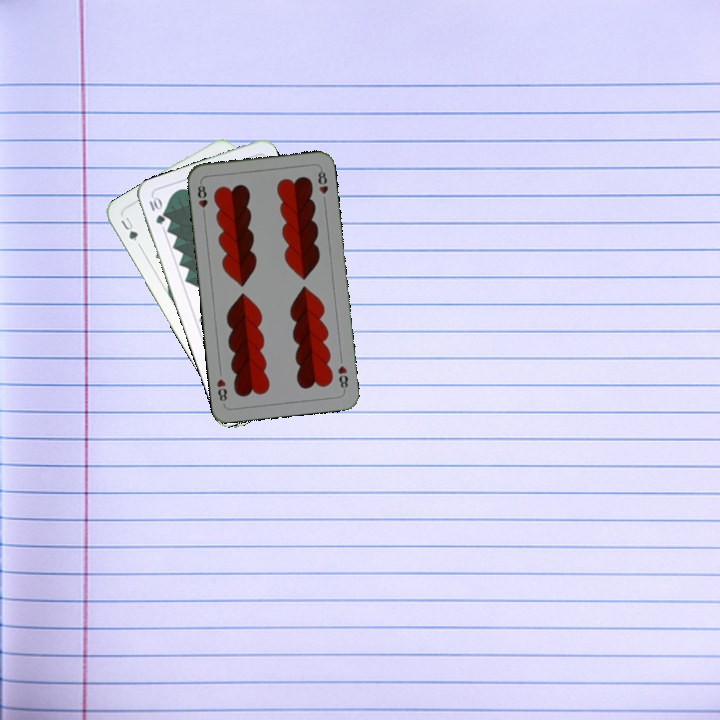G10: (145, 192, 168, 227)
GU: (116, 213, 143, 249)
H8: (194, 178, 210, 219), (334, 361, 350, 394)
